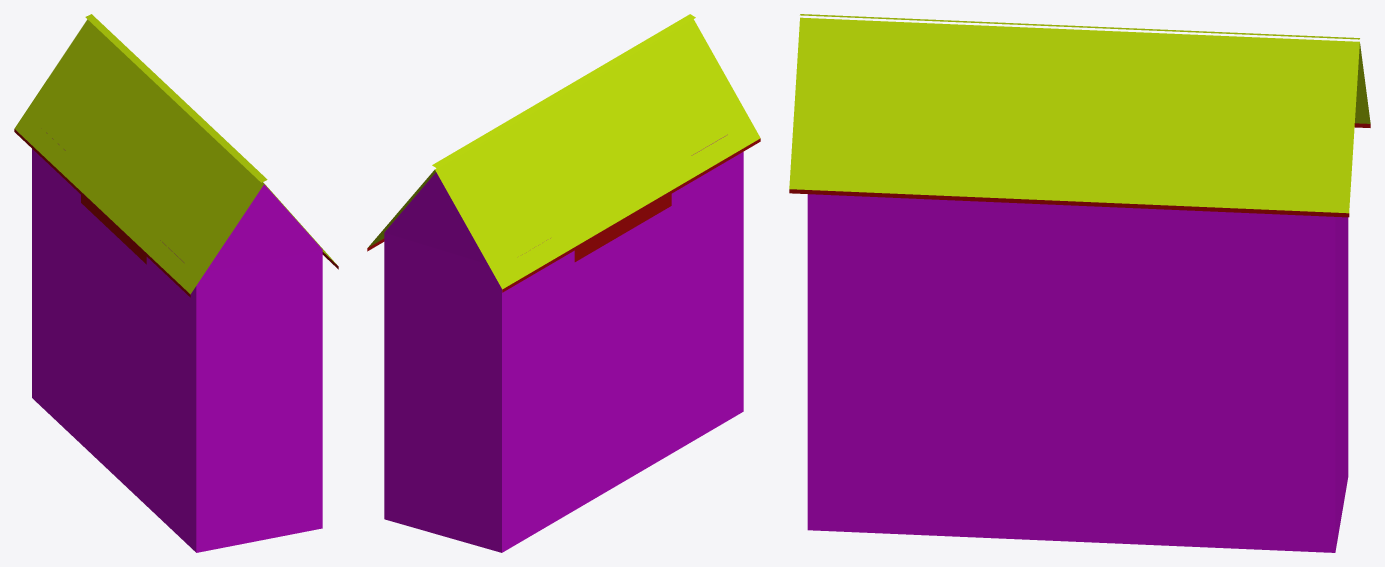
Rendered from bgj_353.glb.
The picture shows the model from 3 angles, left to right: view 1: azimuth 30°, elevation 25°; view 2: azimuth 150°, elevation 25°; view 3: azimuth 270°, elevation 25°; orthographic projection. The views are drawn at different scales.
Visible parts, largest first — view 1: bgj_353; view 2: bgj_353; view 3: bgj_353.
Boxes of the visible parts, box(x1,y1,x2,y2) form: bgj_353: box(14, 14, 338, 552); bgj_353: box(367, 14, 760, 552); bgj_353: box(789, 14, 1370, 552).
Size of the model in its own units: 6.96 by 13.67 by 15.07.
